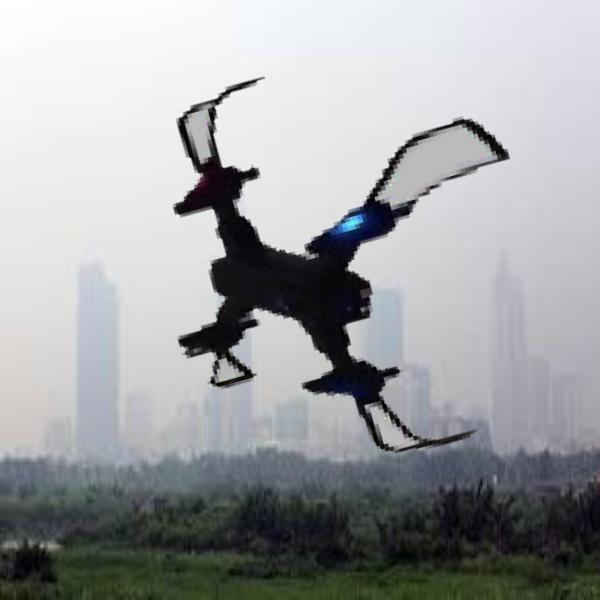drone: (147, 49, 578, 480)
